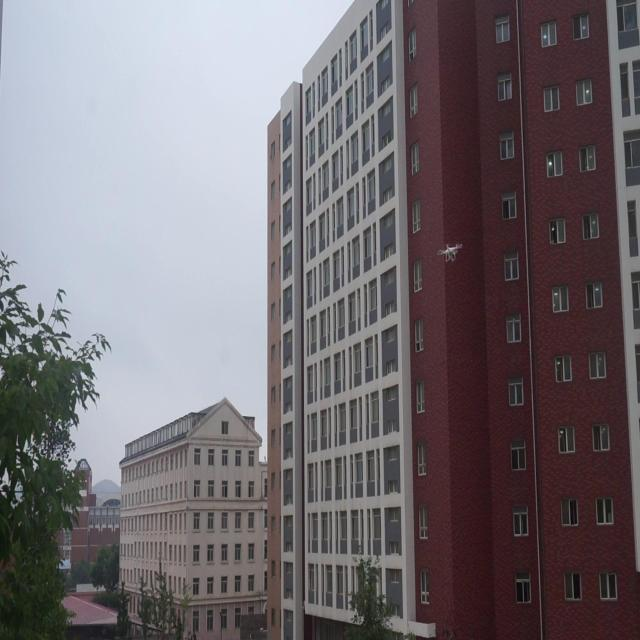drone: (437, 240, 464, 267)
